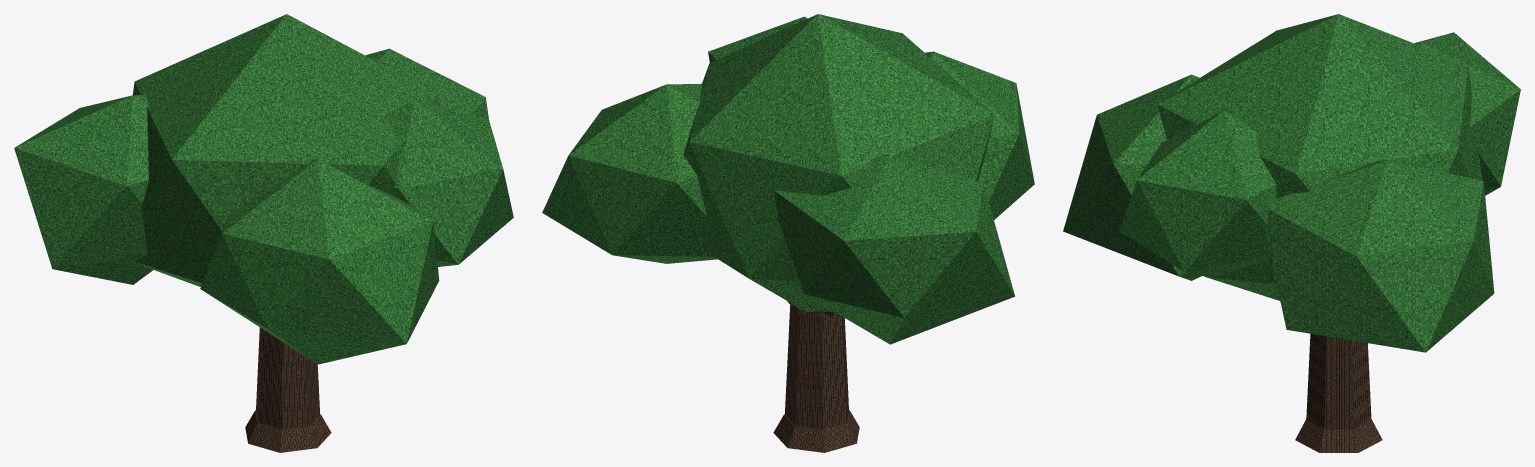
File: tree_oak_c.glb
3 views of the same model, side by side, from view 1: azimuth 30°, elevation 25°; view 2: azimuth 150°, elevation 25°; view 3: azimuth 270°, elevation 25° (orthographic).
Visible parts, largest first — view 1: Body.001; view 2: Body.001; view 3: Body.001.
Boxes of the visible parts, x1,y1,x2,y2 form: Body.001: (14, 14, 513, 452); Body.001: (542, 14, 1034, 452); Body.001: (1063, 14, 1520, 452).
Bounding box in the file's own units: 6.35 × 5.69 × 5.6.
Materials: 2 (2 with a texture image).
